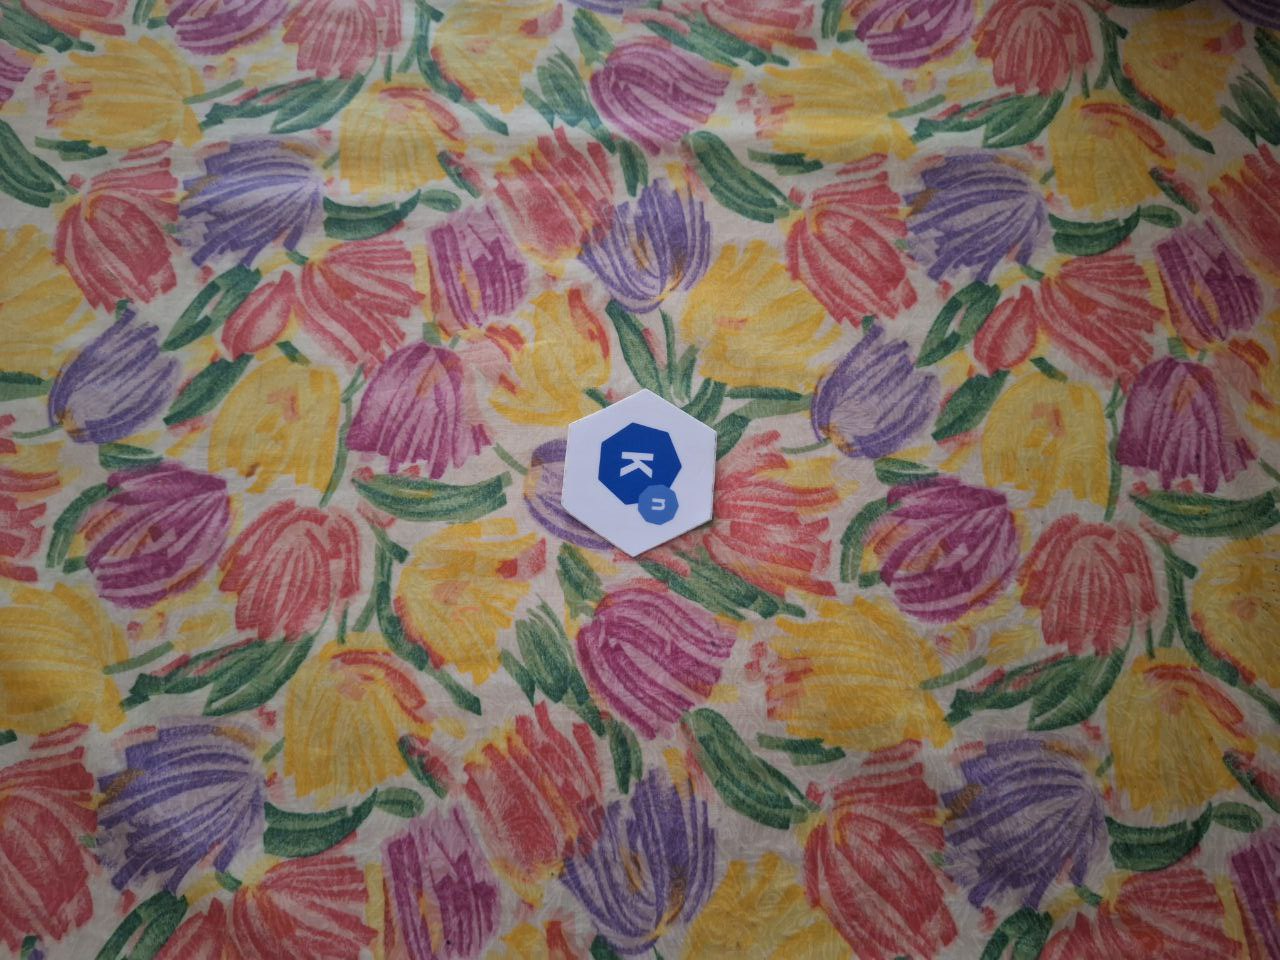knative: (598, 419, 686, 524)
